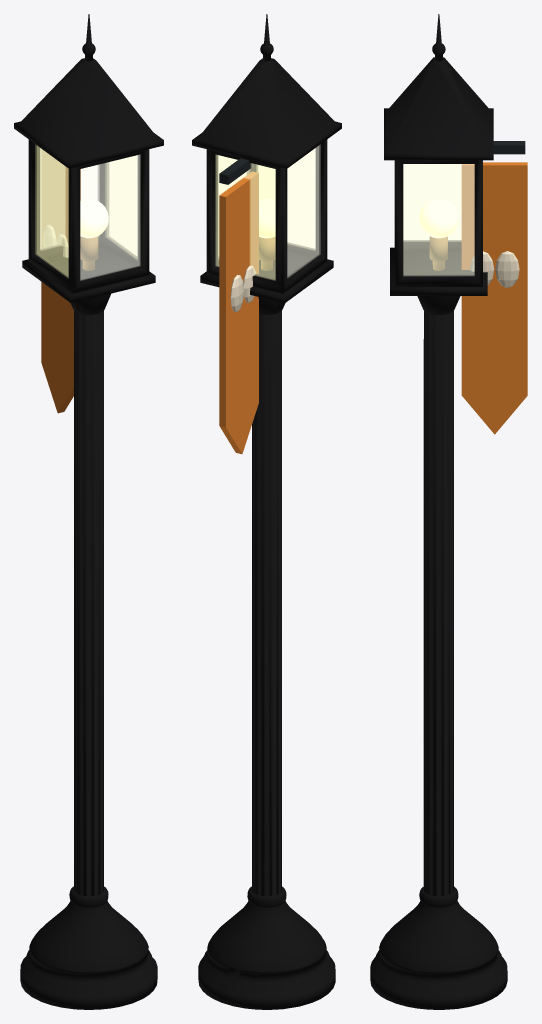
Rendered from street-lamp-lantern.glb.
3 views of the same model, side by side, from view 1: azimuth 30°, elevation 25°; view 2: azimuth 150°, elevation 25°; view 3: azimuth 270°, elevation 25° (orthographic).
Visible parts, largest first — view 1: street-lamp-lantern, LampBanner; view 2: street-lamp-lantern, LampBanner; view 3: street-lamp-lantern, LampBanner.
Part boxes in pixels (x1,y1,x2,y2): street-lamp-lantern: (14,14,163,1009); LampBanner: (41,149,80,413); street-lamp-lantern: (192,14,341,1009); LampBanner: (219,158,258,454); street-lamp-lantern: (370,14,507,1009); LampBanner: (461,141,527,434).
Bounding box in the file's own units: 0.5399 × 4.2 × 0.6205.
